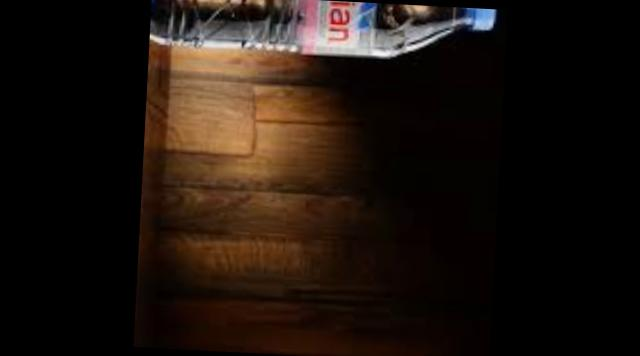plastic: (150, 0, 498, 53)
